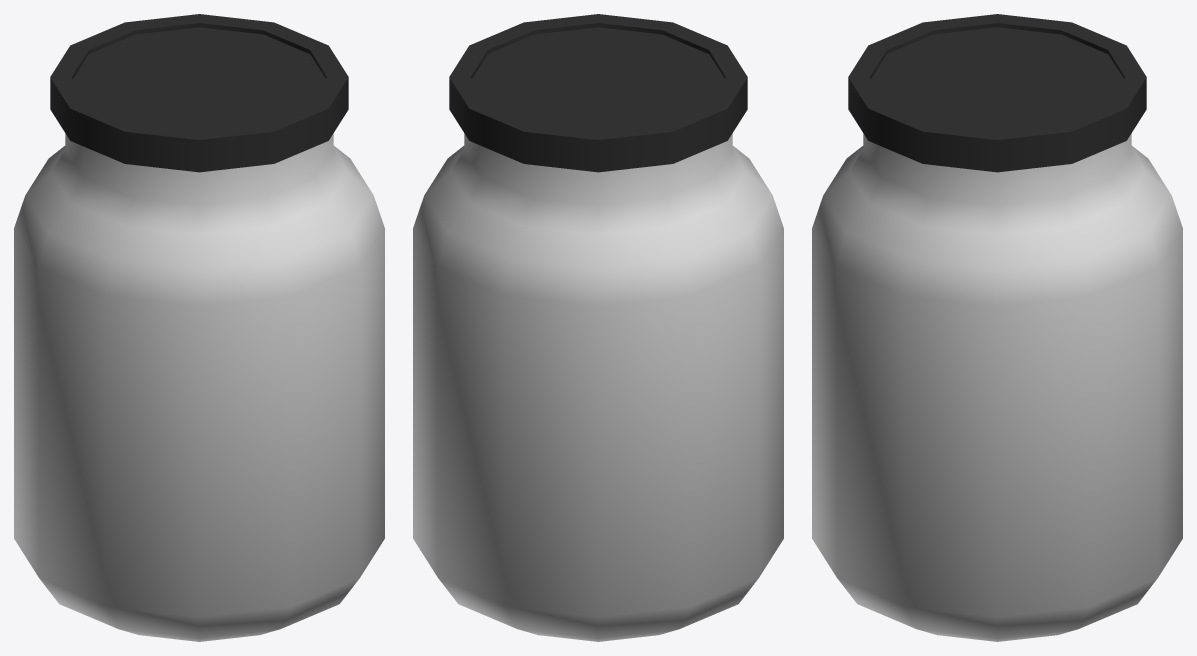
Rendered from Jar_01.fbx.
3 views of the same model, side by side, from view 1: azimuth 30°, elevation 25°; view 2: azimuth 150°, elevation 25°; view 3: azimuth 270°, elevation 25° (orthographic).
Visible parts, largest first — view 1: Jar_01, Jar_01_Lid; view 2: Jar_01, Jar_01_Lid; view 3: Jar_01, Jar_01_Lid.
Part boxes in pixels (x1,y1,x2,y2): Jar_01: [14, 133, 384, 641]; Jar_01_Lid: [50, 14, 348, 172]; Jar_01: [413, 133, 783, 641]; Jar_01_Lid: [449, 14, 747, 172]; Jar_01: [812, 133, 1182, 641]; Jar_01_Lid: [848, 14, 1146, 172].
Size of the model in its own units: 0.1458 by 0.2229 by 0.1458.
